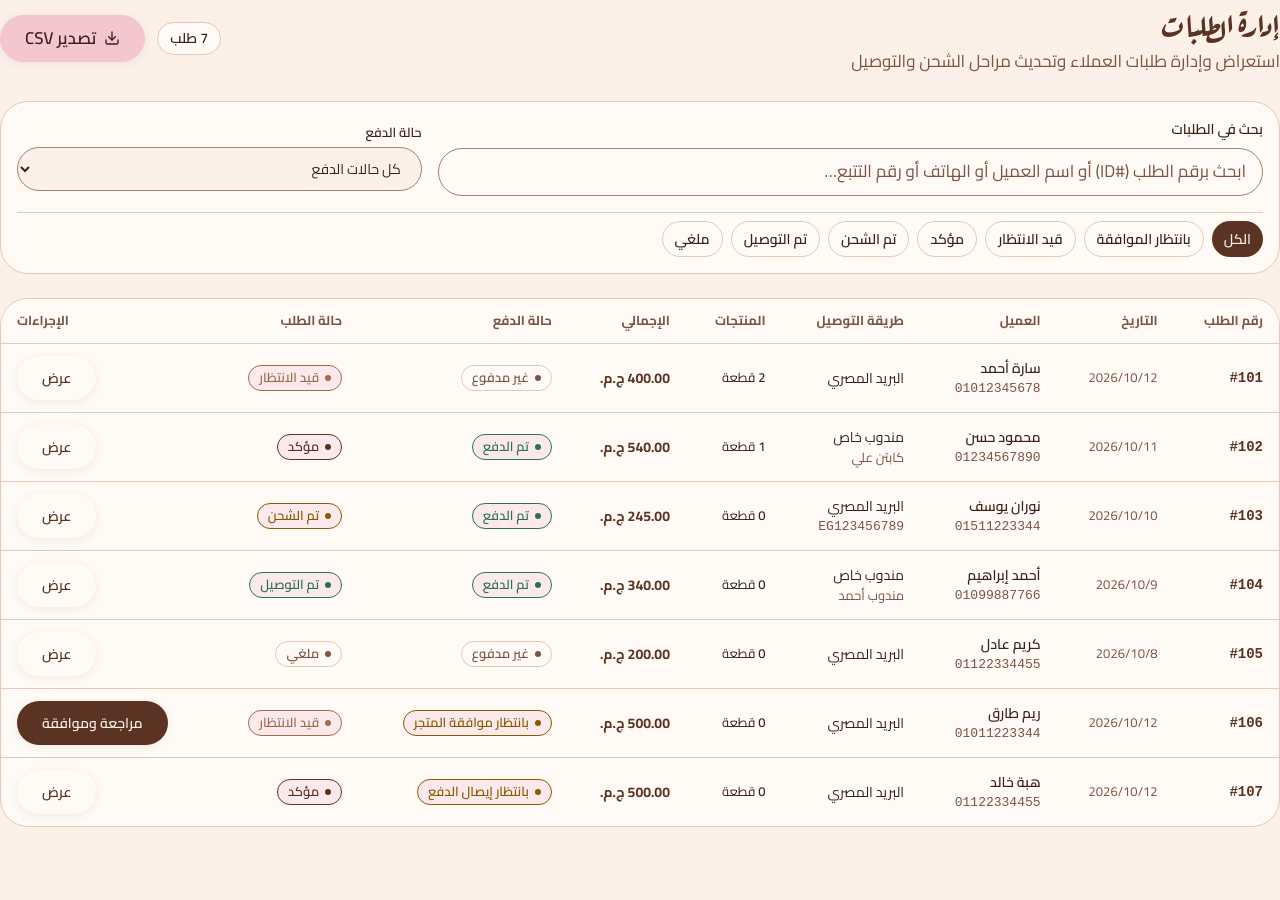
Scenario: T-5.05 Orders Administration › OrdersPage UI Rendering & Interactions › displays terminal notice and no transition buttons when viewing cancelled order
The image size is (1280, 900).
Open Order #105 (cancelled)
Click the text "#105". click: (1234, 654)
box: x1=1229 y1=646 x2=1263 y2=662
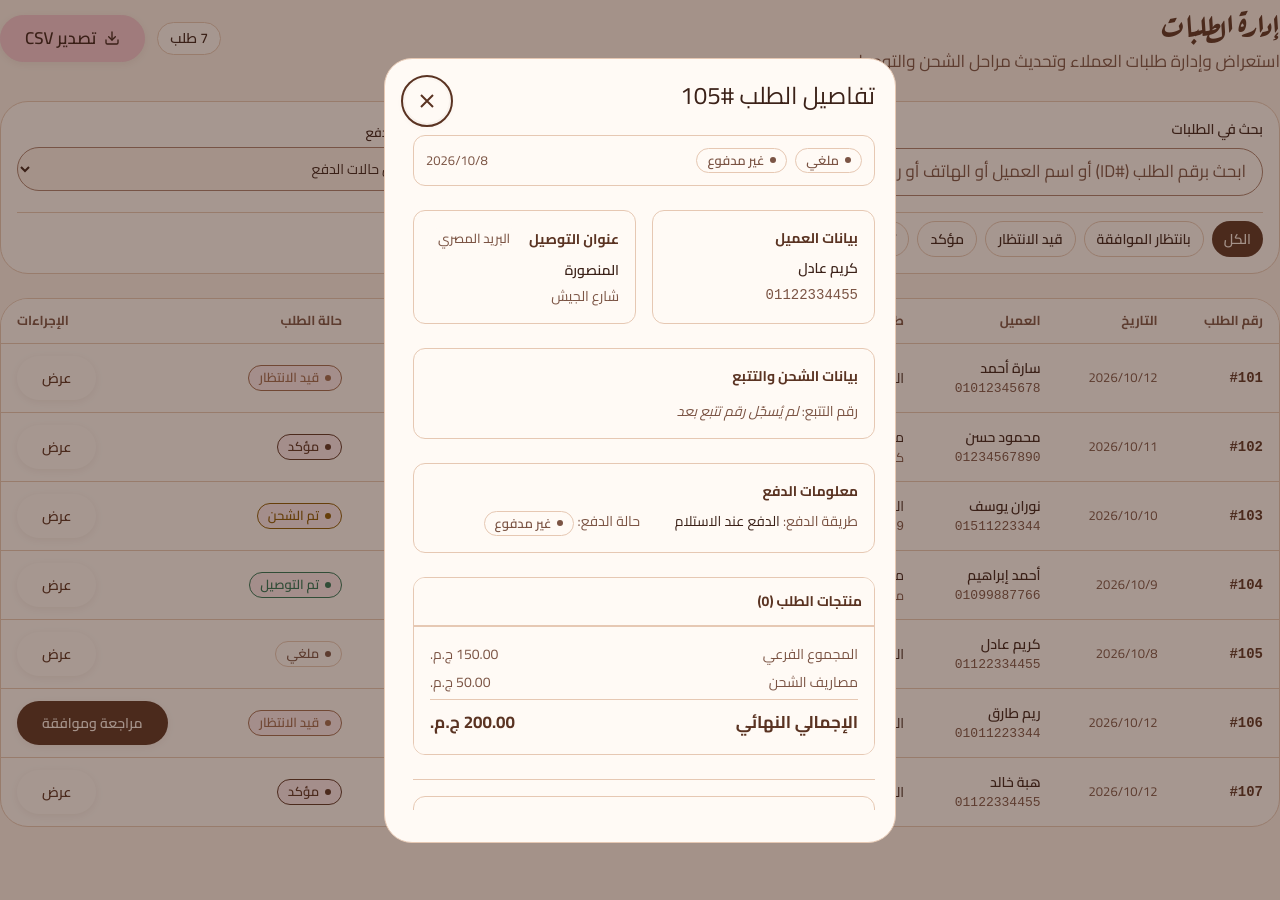
expect the heading "تفاصيل الطلب #105" is shown: met, box x1=680 y1=78 x2=875 y2=112
